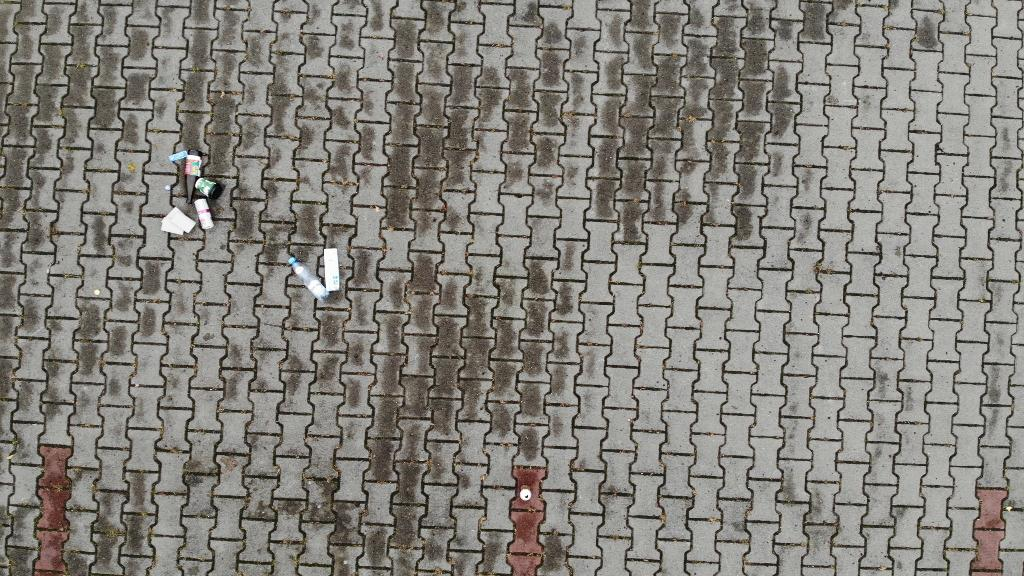garbage: (285, 253, 329, 304), (159, 206, 199, 238), (182, 150, 204, 203), (193, 193, 216, 229), (324, 246, 341, 293)
